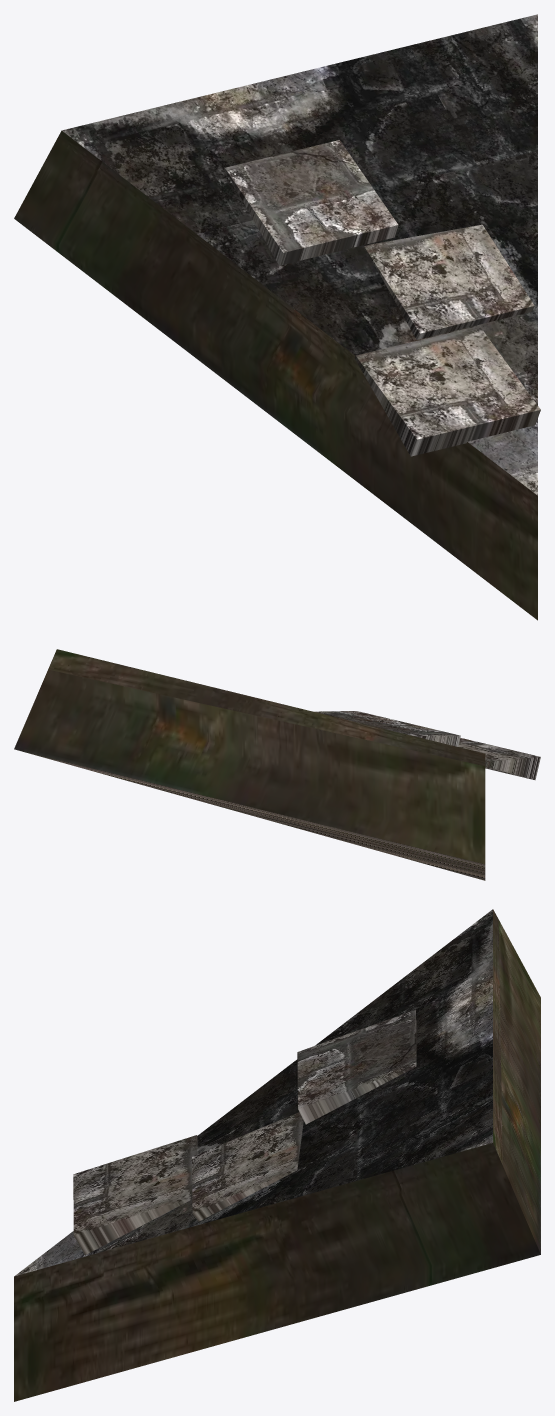
3 views of the same model, one above another, from view 1: azimuth 30°, elevation 25°; view 2: azimuth 150°, elevation 25°; view 3: azimuth 270°, elevation 25° (orthographic). The views are drawn at different scales.
Parts seen in each view (by area): view 1: SM_BB_T3_Roof_Triangle_Shallow_Med_LOD0; view 2: SM_BB_T3_Roof_Triangle_Shallow_Med_LOD0; view 3: SM_BB_T3_Roof_Triangle_Shallow_Med_LOD0.
Part boxes in pixels (x1=…): SM_BB_T3_Roof_Triangle_Shallow_Med_LOD0: x1=14, y1=14, x2=540, y2=620; SM_BB_T3_Roof_Triangle_Shallow_Med_LOD0: x1=14, y1=649, x2=540, y2=880; SM_BB_T3_Roof_Triangle_Shallow_Med_LOD0: x1=14, y1=909, x2=540, y2=1401.
Bounding box in the file's own units: 1.65 × 1.12 × 1.43.
3 materials, 3 textured.
